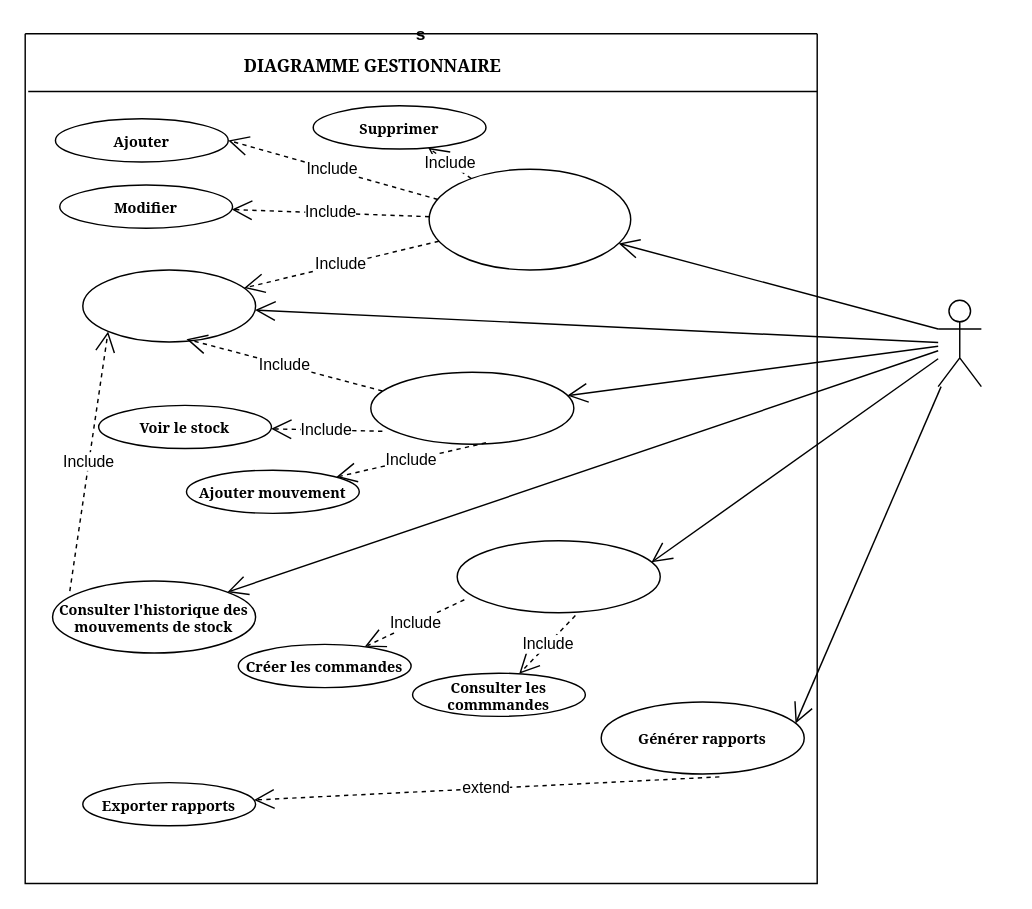
This 1032x909 diagram has some shape labels left out. Each missing label, with the centre of its shape:
"Authentification" belongs at (x=168, y=305).
"Gestionnaire" belongs at (x=959, y=343).
"Gérer le stock" belongs at (x=471, y=407).
"Gérer les commandes" belongs at (x=558, y=576).
"Gérer les produits" belongs at (x=529, y=219).
